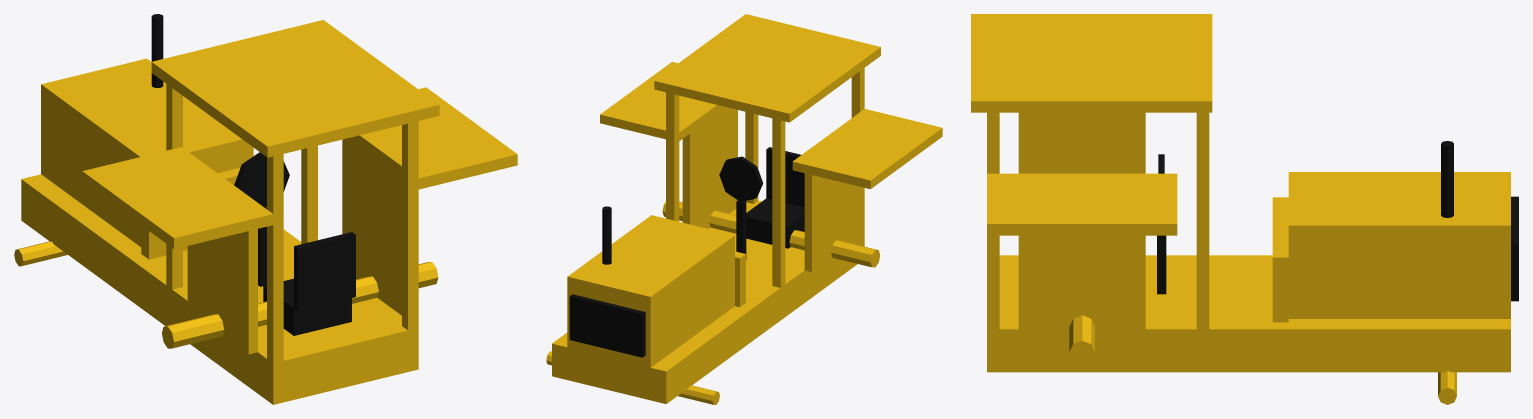
The model's file is Tractor_Cuerpo.obj.
3 views of the same model, side by side, from view 1: azimuth 30°, elevation 25°; view 2: azimuth 150°, elevation 25°; view 3: azimuth 270°, elevation 25° (orthographic). The views are drawn at different scales.
Visible parts, largest first — view 1: Tractor_Cuerpo; view 2: Tractor_Cuerpo; view 3: Tractor_Cuerpo.
Part boxes in pixels (box(x1,y1,x2,y2)): Tractor_Cuerpo: box(14, 14, 517, 404); Tractor_Cuerpo: box(546, 14, 942, 404); Tractor_Cuerpo: box(971, 14, 1518, 404).
Size of the model in its own units: 2.6 by 2.04 by 3.45.
